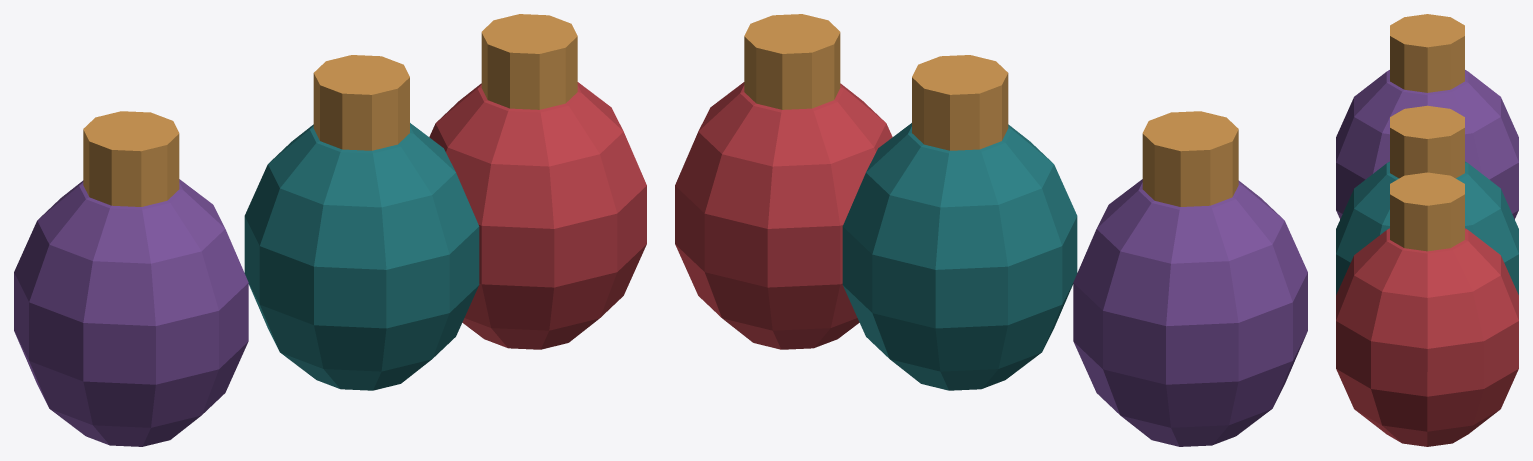
File: Potions.fbx
The picture shows the model from 3 angles, left to right: view 1: azimuth 30°, elevation 25°; view 2: azimuth 150°, elevation 25°; view 3: azimuth 270°, elevation 25°; orthographic projection. The views are drawn at different scales.
Visible parts, largest first — view 1: Potions.005; view 2: Potions.005; view 3: Potions.005.
Boxes of the visible parts, x1,y1,x2,y2 form: Potions.005: [14, 14, 646, 446]; Potions.005: [675, 14, 1307, 446]; Potions.005: [1336, 14, 1518, 446].
Bounding box in the file's own units: 57.5 × 28 × 18.54.
